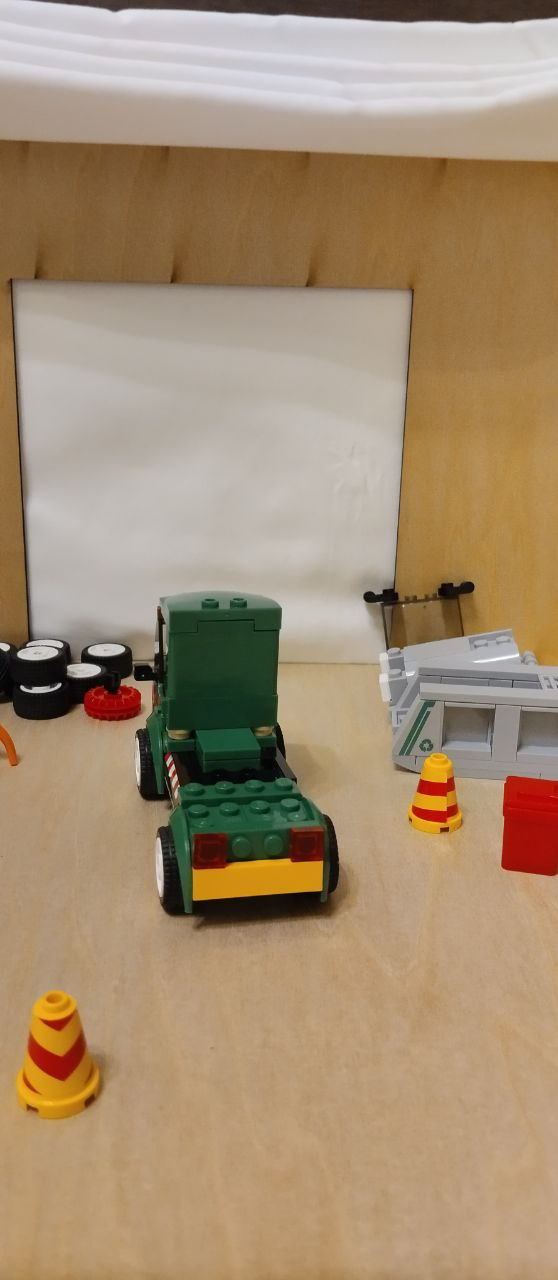Cone: (3, 984, 117, 1120), (404, 750, 473, 837)
Object Red: (492, 773, 557, 881)
Truck: (126, 587, 339, 923)
